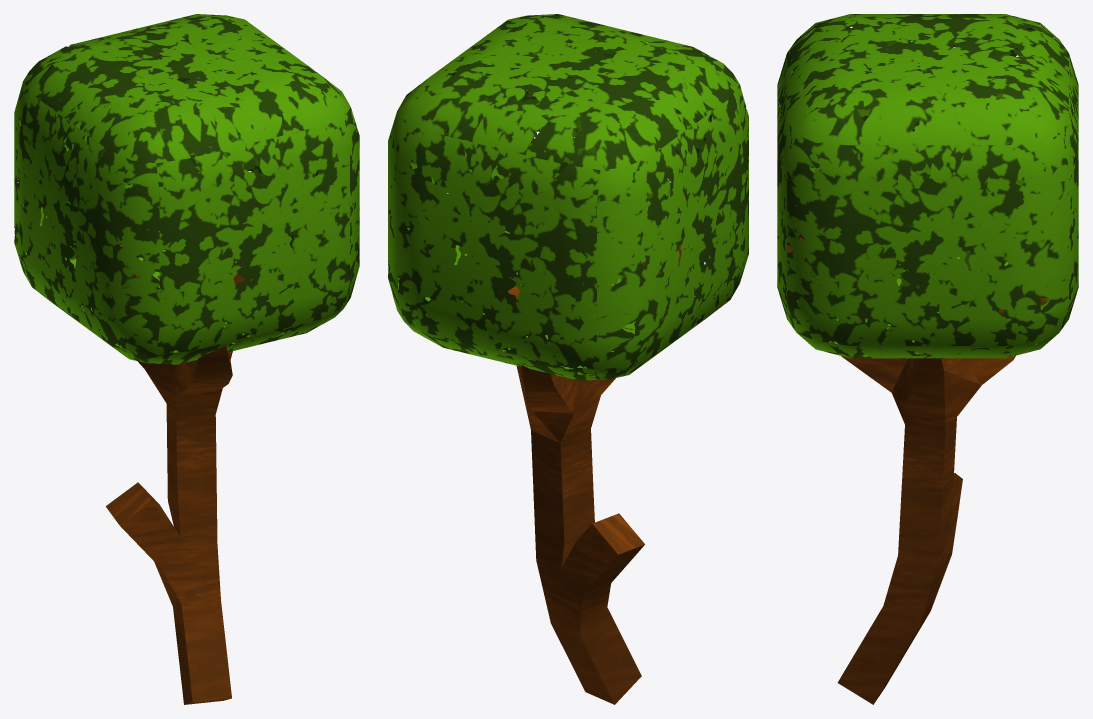
File: tree 2.fbx
3 renders of one model, left to right at view 1: azimuth 30°, elevation 25°; view 2: azimuth 150°, elevation 25°; view 3: azimuth 270°, elevation 25°, orthographic. The views are drawn at different scales.
Parts seen in each view (by area): view 1: tree 2; view 2: tree 2; view 3: tree 2.
Part boxes in pixels (x1,y1,x2,y2): tree 2: [14, 14, 359, 704]; tree 2: [388, 14, 748, 704]; tree 2: [777, 14, 1078, 704].
Size of the model in its own units: 632 by 1495 by 632.
